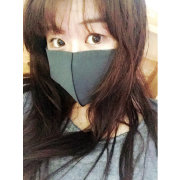face_mask: (46, 1, 119, 105)
